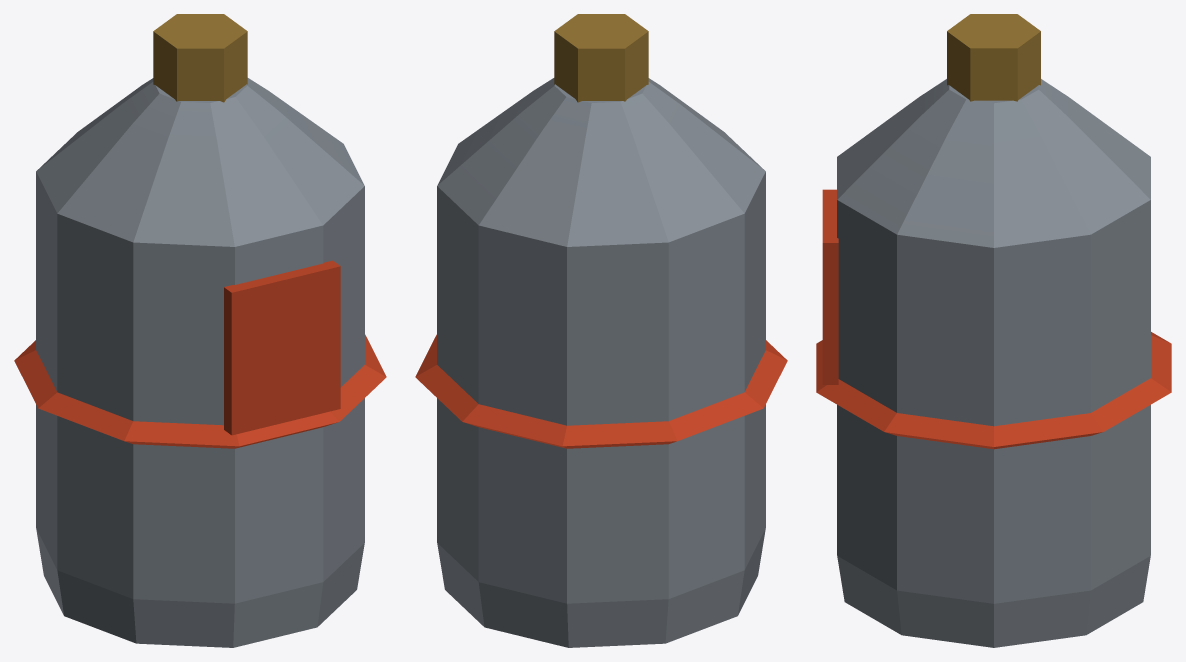
Rendered from projector-canister-incendiary.glb.
The picture shows the model from 3 angles, left to right: view 1: azimuth 30°, elevation 25°; view 2: azimuth 150°, elevation 25°; view 3: azimuth 270°, elevation 25°; orthographic projection.
Parts seen in each view (by area): view 1: m; view 2: m; view 3: m.
Part boxes in pixels (left/top/right/bottom): m: left=14, top=14, right=386, bottom=647; m: left=415, top=14, right=787, bottom=647; m: left=816, top=14, right=1171, bottom=647.
Bounding box in the file's own units: 0.0425 × 0.069 × 0.0404.
